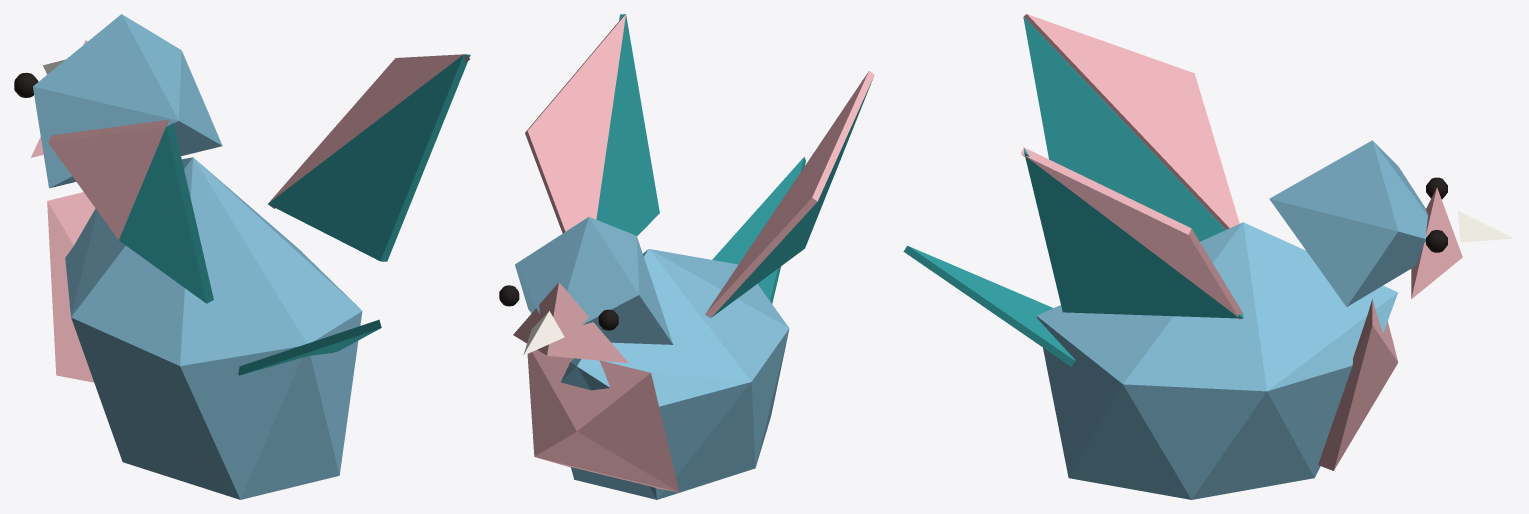
Rendered from perch_blue_bird.glb.
3 renders of one model, left to right at view 1: azimuth 30°, elevation 25°; view 2: azimuth 150°, elevation 25°; view 3: azimuth 270°, elevation 25°, orthographic. The views are drawn at different scales.
Visible parts, largest first — view 1: body, wing_l, head, wing_r; view 2: body, wing_l, head, wing_r; view 3: body, wing_r, wing_l, head.
Part boxes in pixels (x1,y1,x2,y2): body: (47, 157, 381, 499); wing_l: (268, 54, 470, 261); head: (14, 14, 222, 188); wing_r: (48, 119, 213, 303); body: (527, 157, 805, 499); wing_l: (525, 14, 659, 235); head: (499, 217, 673, 363); wing_r: (705, 71, 874, 317); body: (903, 222, 1398, 499); wing_r: (1023, 14, 1239, 241); wing_l: (1021, 147, 1243, 319); head: (1269, 140, 1513, 306).
Bounding box in the file's own units: 0.213 × 0.2428 × 0.3549.
